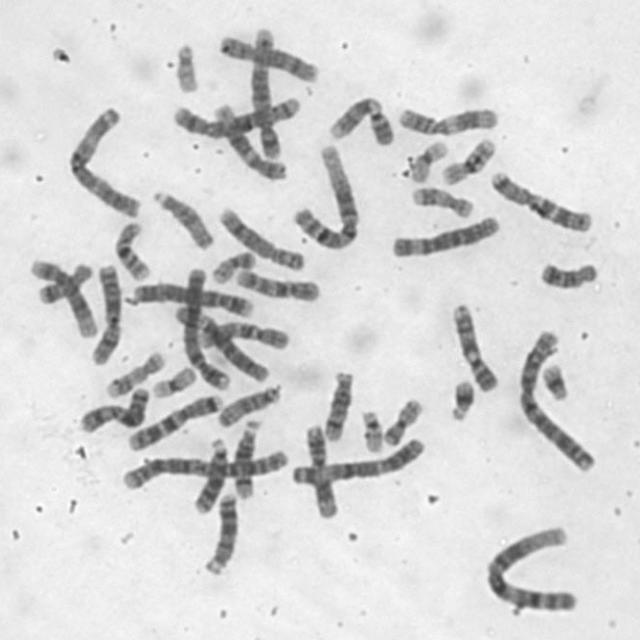A1: (480, 520, 584, 614), (288, 142, 362, 252)
A2: (510, 324, 600, 476), (118, 443, 292, 492)
A3: (63, 102, 145, 219), (287, 432, 428, 488)
B4: (178, 262, 234, 392), (128, 279, 253, 319)
B5: (166, 90, 304, 141), (245, 20, 285, 160)
C10: (193, 315, 290, 353), (231, 264, 322, 304)
C11: (301, 420, 340, 520), (393, 102, 501, 138)
C12: (26, 252, 99, 340), (212, 99, 289, 182)
C6: (172, 296, 272, 384), (386, 210, 502, 260)
C7: (485, 164, 597, 234), (124, 390, 225, 452)
C8: (215, 204, 308, 272), (214, 30, 322, 84)
C9: (447, 297, 500, 393), (324, 91, 395, 147)
D13: (200, 488, 240, 578), (189, 432, 231, 514)
D14: (318, 363, 357, 442), (229, 414, 264, 501)
D15: (148, 185, 218, 251), (210, 378, 284, 429)
E16: (435, 131, 497, 186), (109, 214, 155, 282)
E17: (100, 346, 168, 400), (407, 180, 476, 220)
E18: (33, 258, 95, 306), (536, 256, 600, 292)
F19: (404, 135, 451, 184), (148, 362, 198, 400)
F20: (379, 392, 426, 446), (207, 247, 258, 284)
G21: (446, 374, 479, 423), (537, 358, 572, 403)
G22: (170, 35, 203, 95), (357, 403, 386, 454)
X: (87, 259, 125, 366), (76, 381, 151, 434)
